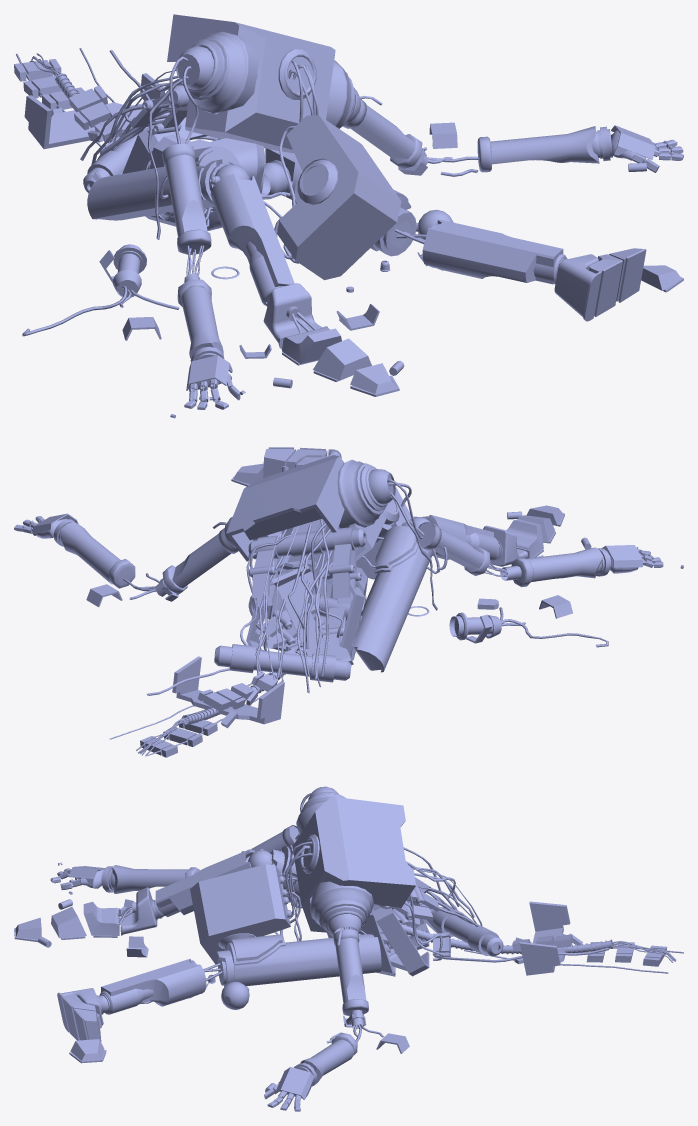
The model's file is Роботы_002.fbx.
The picture shows the model from 3 angles, top to bottom: view 1: azimuth 30°, elevation 25°; view 2: azimuth 150°, elevation 25°; view 3: azimuth 270°, elevation 25°; orthographic projection. The views are drawn at different scales.
Parts seen in each view (by area): view 1: 7CLW9E_low.005; view 2: 7CLW9E_low.005; view 3: 7CLW9E_low.005.
Boxes of the visible parts, box(x1,y1,x2,y2) form: 7CLW9E_low.005: box(14, 14, 683, 418); 7CLW9E_low.005: box(14, 447, 683, 757); 7CLW9E_low.005: box(14, 786, 683, 1111).
Size of the model in its own units: 1.85 by 0.553 by 2.03.
